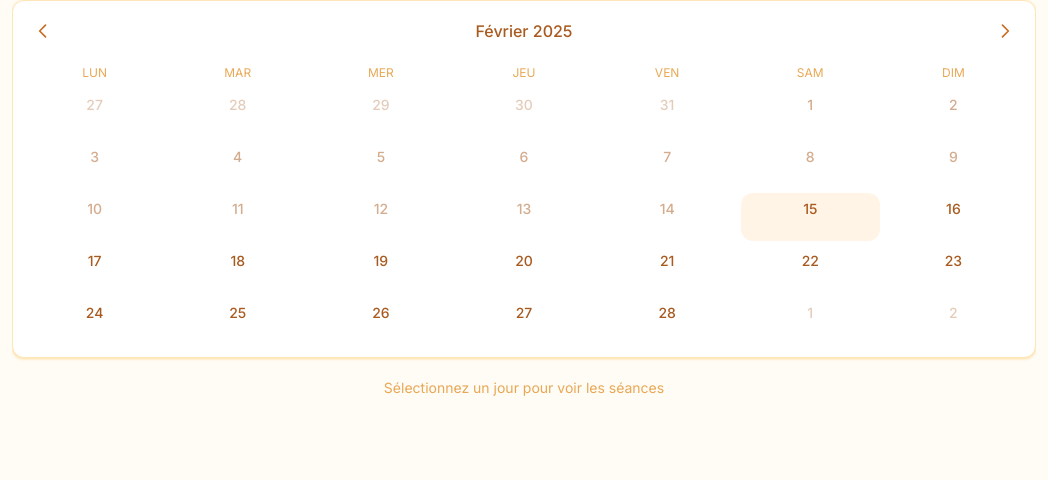
Test: MonthCalendar › Date Selection › deselects date when clicking selected date again
This screenshot has width=1048, height=480.
Click the button "15" at (810, 217), box [741,193,880,241]
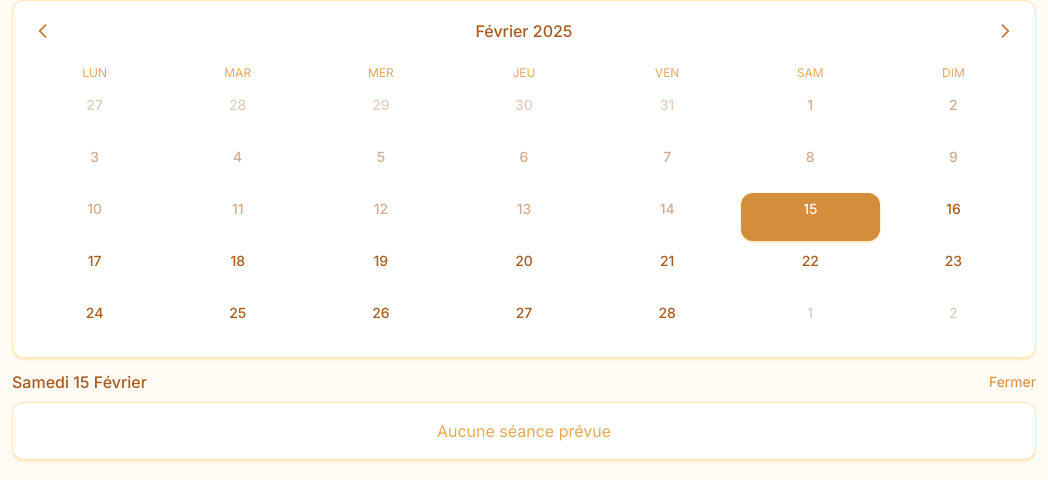
Now the text "Aucune séance prévue" is shown, box [12,402,1036,460]
Note: Click again to deselect
Click the button "15" at (810, 217), box [741,193,880,241]
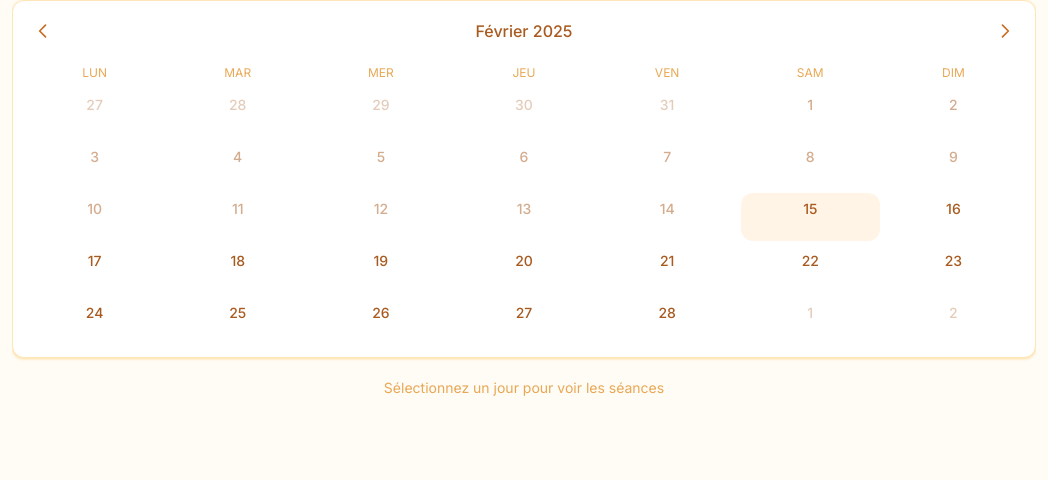
Now the text "Sélectionnez un jour pour voir les séances" is shown, box [384,379,664,396]
